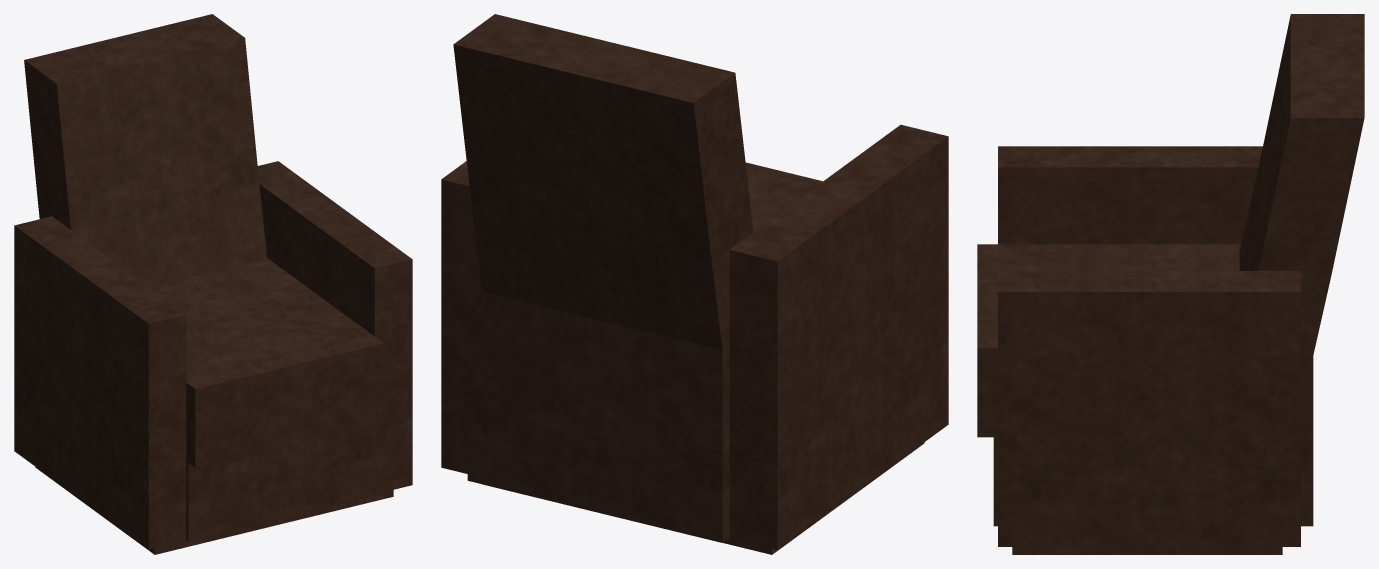
The model's file is LC_3058_Recliner_sofa_LOD1.FBX.
3 views of the same model, side by side, from view 1: azimuth 30°, elevation 25°; view 2: azimuth 150°, elevation 25°; view 3: azimuth 270°, elevation 25° (orthographic). The views are drawn at different scales.
Visible parts, largest first — view 1: LC_3058_Recliner_sofa_LOD1; view 2: LC_3058_Recliner_sofa_LOD1; view 3: LC_3058_Recliner_sofa_LOD1.
Boxes of the visible parts, x1=… form: LC_3058_Recliner_sofa_LOD1: x1=14, y1=14, x2=412, y2=554; LC_3058_Recliner_sofa_LOD1: x1=441, y1=14, x2=948, y2=554; LC_3058_Recliner_sofa_LOD1: x1=977, y1=14, x2=1364, y2=554.
Size of the model in its own units: 84 by 114 by 94.5.
1 material, 1 textured.
